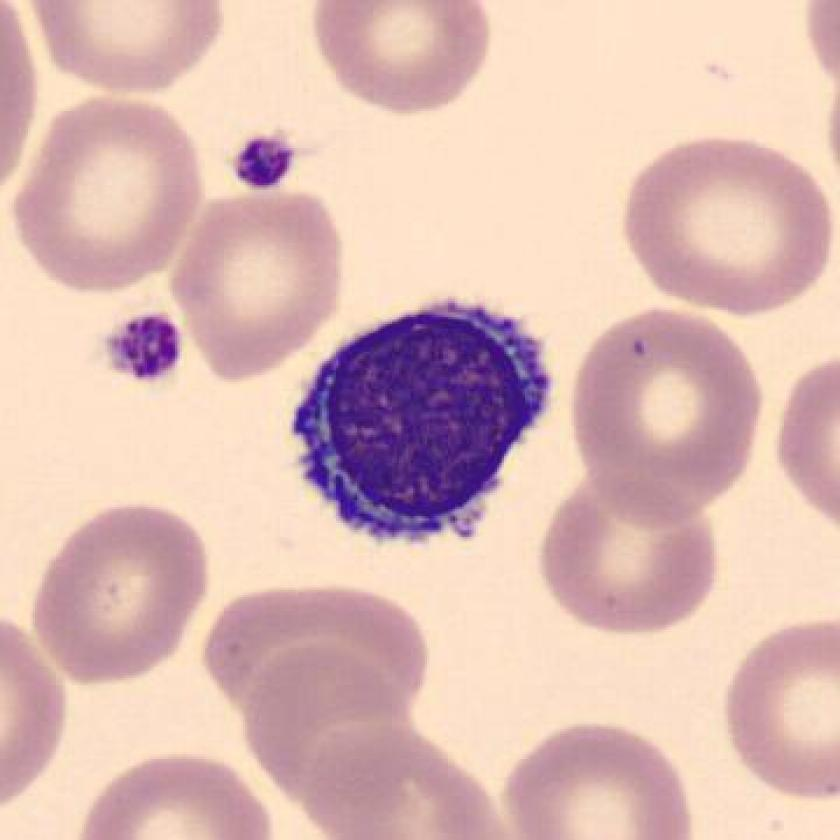lymphocyte: (267, 283, 566, 561)
